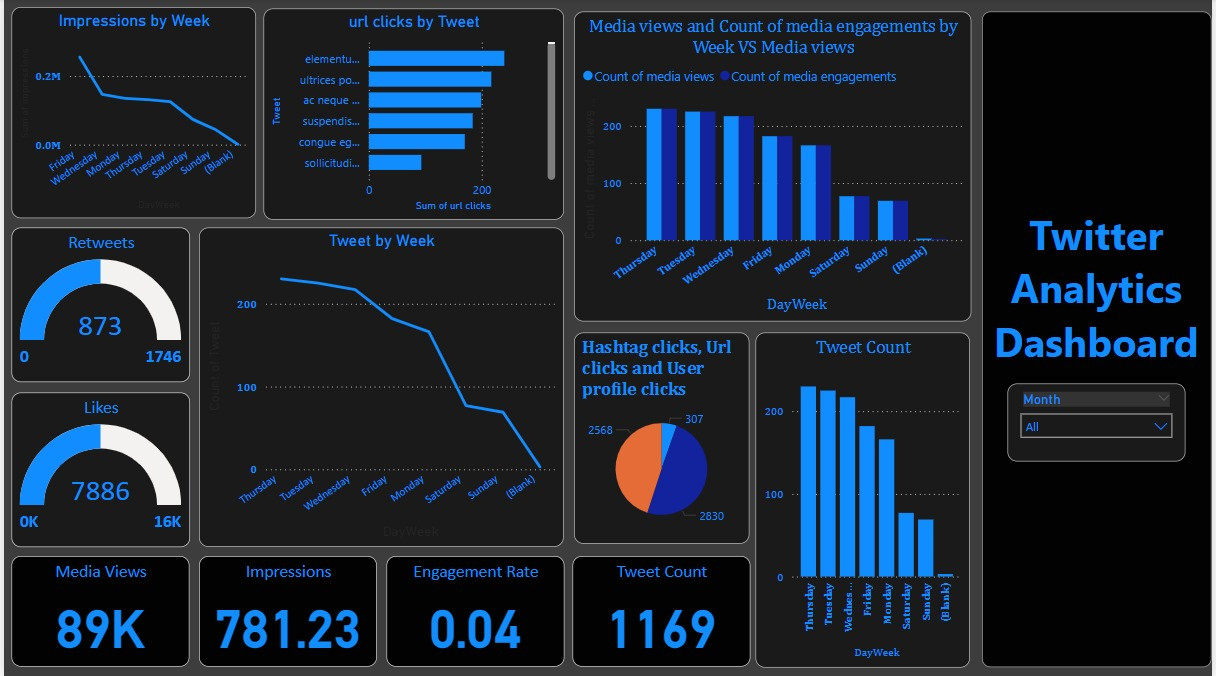

Layout of this report page (visuals, bound fields, positions):
{"tool":"powerbi","page":{"name":"Page 2","canvas":[1280,720],"ordinal":1},"visuals":[{"type":"textbox","box":[1037.1,14.3,243.4,695.1],"z":0},{"type":"card","title":" Media Views","fields":{"Values":["Sum(SocialMedia (1).media views)"]},"box":[8.3,591.8,188.4,117.4],"z":1000},{"type":"card","title":"Impressions","fields":{"Values":["Avg(SocialMedia (1).impressions)"]},"box":[206.6,591.8,188.4,117.4],"z":2000},{"type":"card","title":"Engagement Rate","fields":{"Values":["Avg(SocialMedia (1).engagement rate)"]},"box":[405,591.8,188.4,117.4],"z":3000},{"type":"card","title":"Tweet Count","fields":{"Values":["CountNonNull(SocialMedia (1).Tweet)"]},"box":[603.4,591.8,188.4,117.4],"z":4000},{"type":"gauge","title":"Likes","fields":{"Y":["Sum(SocialMedia (1).likes)"]},"box":[8,418.3,189.3,163.8],"z":5000},{"type":"gauge","title":"Retweets","fields":{"Y":["Sum(SocialMedia (1).retweets)"]},"box":[8,243.4,189.3,163.8],"z":6000},{"type":"slicer","fields":{"Values":["SocialMedia (1).MonthName"]},"box":[1064.6,408.3,188.4,82.7],"z":7000},{"type":"lineChart","title":" Tweet by Week","fields":{"Category":["SocialMedia (1).DayWeek"],"Y":["CountNonNull(SocialMedia (1).Tweet)"]},"box":[206.8,243.4,386.5,338.8],"z":8000},{"type":"lineChart","title":"Impressions by Week","fields":{"Category":["SocialMedia (1).DayWeek"],"Y":["Sum(SocialMedia (1).impressions)"]},"box":[8,9.5,259.3,224.3],"z":9000},{"type":"clusteredBarChart","title":" url clicks by Tweet","fields":{"Category":["SocialMedia (1).Tweet"],"Y":["Sum(SocialMedia (1).url clicks)"]},"box":[275.5,11.6,318.6,224],"z":10000},{"type":"pieChart","title":"Hashtag clicks,       Url clicks and User profile clicks","fields":{"Y":["Sum(SocialMedia (1).hashtag clicks)","Sum(SocialMedia (1).url clicks)","Sum(SocialMedia (1).user profile clicks)"]},"box":[604.4,354.7,186.1,224.3],"z":11000},{"type":"clusteredColumnChart","title":"Media views and Count of media engagements by Week VS Media views","fields":{"Category":["SocialMedia (1).DayWeek"],"Y":["CountNonNull(SocialMedia (1).media views)","CountNonNull(SocialMedia (1).media engagements)"]},"box":[604,14.9,421.5,328.6],"z":12000},{"type":"clusteredColumnChart","title":"Tweet Count","fields":{"Category":["SocialMedia (1).DayWeek"],"Y":["CountNonNull(SocialMedia (1).Tweet)"]},"box":[796.5,355.1,227.3,355.1],"z":12001}]}

Visuals, with their boxes in screenshot pixels (x1, y1, x2, y2), scaled from the page's 1280x720 canvas onto the 1216x676 screenshot:
textbox: (985,13,1215,666)
" Media Views" card: (8,556,187,666)
"Impressions" card: (196,556,375,666)
"Engagement Rate" card: (385,556,564,666)
"Tweet Count" card: (573,556,752,666)
"Likes" gauge: (8,393,187,547)
"Retweets" gauge: (8,229,187,382)
slicer - SocialMedia (1).MonthName: (1011,383,1190,461)
" Tweet by Week" lineChart: (196,229,564,547)
"Impressions by Week" lineChart: (8,9,254,220)
" url clicks by Tweet" clusteredBarChart: (262,11,564,221)
"Hashtag clicks,       Url clicks and User profile clicks" pieChart: (574,333,751,544)
"Media views and Count of media engagements by Week VS Media views" clusteredColumnChart: (574,14,974,323)
"Tweet Count" clusteredColumnChart: (757,333,973,667)
